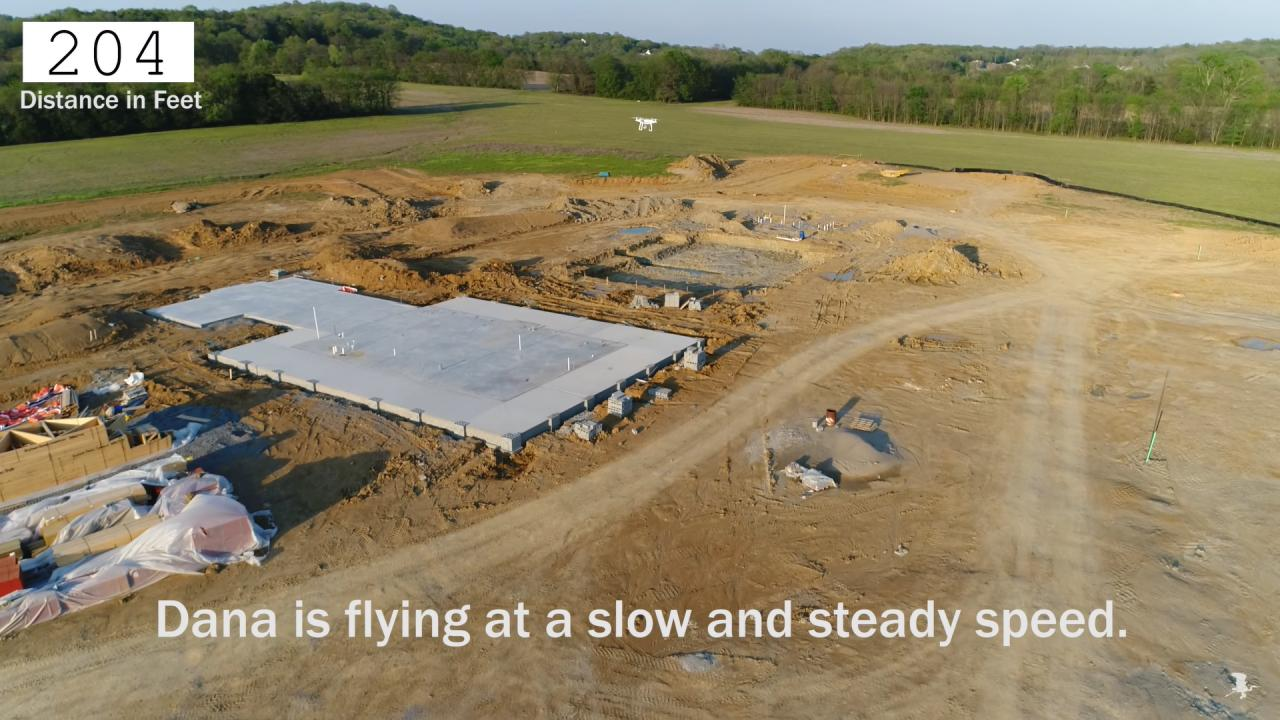Drone: (626, 108, 666, 140)
